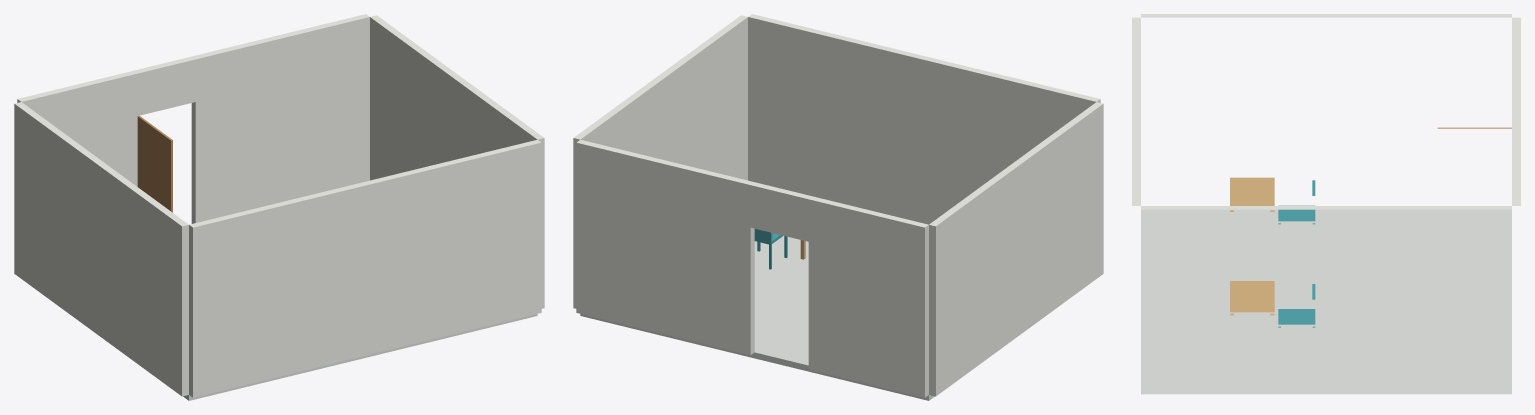
File: nonfinite-vertex-bytes.glb
3 renders of one model, left to right at view 1: azimuth 30°, elevation 25°; view 2: azimuth 150°, elevation 25°; view 3: azimuth 270°, elevation 25°, orthographic. The views are drawn at different scales.
Parts seen in each view (by area): view 1: room:north:full, room:west:full, room:south:high, room:east:full, room:south:low, room:south:lintel, door:leaf, room:floor; view 2: room:north:full, room:south:high, room:west:full, room:south:low, room:east:full, room:floor, room:south:lintel; view 3: room:floor, room:north:full, room:west:full, room:east:full, manual-b:table:top, manual-a:table:top, room:south:high, manual-b:chair:seat, room:south:low, manual-a:chair:seat.
Boxes of the visible parts, left/top/right/bottom form: room:north:full: left=189, top=139, right=541, bottom=397; room:west:full: left=14, top=102, right=188, bottom=396; room:south:high: left=191, top=14, right=369, bottom=223; room:east:full: left=370, top=15, right=544, bottom=308; room:south:low: left=17, top=70, right=137, bottom=186; room:south:lintel: left=134, top=56, right=195, bottom=115; door:leaf: left=137, top=115, right=172, bottom=212; room:floor: left=183, top=314, right=537, bottom=400; room:north:full: left=748, top=14, right=1100, bottom=224; room:south:high: left=576, top=139, right=754, bottom=355; room:west:full: left=929, top=102, right=1103, bottom=396; room:south:low: left=808, top=196, right=928, bottom=397; room:east:full: left=573, top=15, right=747, bottom=308; room:floor: left=580, top=235, right=934, bottom=400; room:south:lintel: left=750, top=182, right=812, bottom=241; room:floor: left=1141, top=209, right=1511, bottom=394; room:north:full: left=1132, top=17, right=1140, bottom=205; room:west:full: left=1141, top=14, right=1511, bottom=17; room:east:full: left=1141, top=206, right=1511, bottom=209; manual-b:table:top: left=1230, top=281, right=1274, bottom=312; manual-a:table:top: left=1230, top=177, right=1274, bottom=205; room:south:high: left=1512, top=112, right=1520, bottom=205; manual-b:chair:seat: left=1278, top=309, right=1315, bottom=324; room:south:low: left=1512, top=17, right=1520, bottom=80; manual-a:chair:seat: left=1278, top=205, right=1315, bottom=221.
Bounding box in the file's own units: 6.24 × 2.9 × 5.24.
